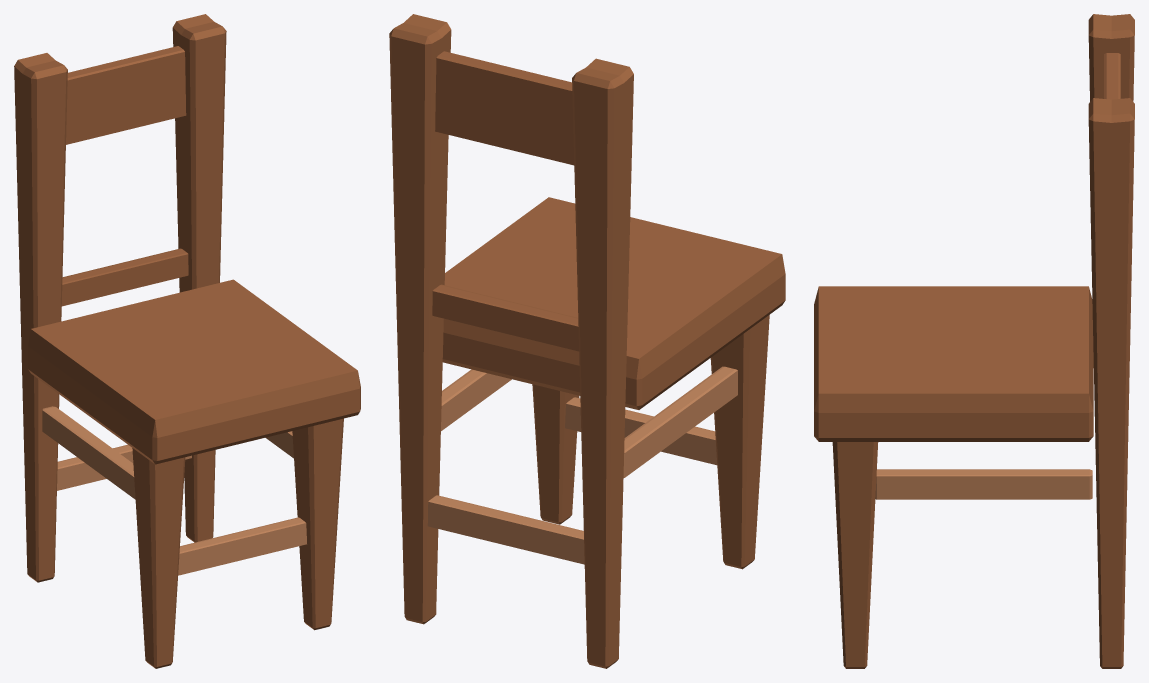
File: chair_wood.gltf
The picture shows the model from 3 angles, left to right: view 1: azimuth 30°, elevation 25°; view 2: azimuth 150°, elevation 25°; view 3: azimuth 270°, elevation 25°; orthographic projection. The views are drawn at different scales.
Visible parts, largest first — view 1: Chair A; view 2: Chair A; view 3: Chair A.
Boxes of the visible parts, x1,y1,x2,y2 form: Chair A: (14, 14, 360, 668); Chair A: (389, 14, 785, 668); Chair A: (814, 14, 1134, 668).
Bounding box in the file's own units: 2.06 × 4.87 × 2.53.
